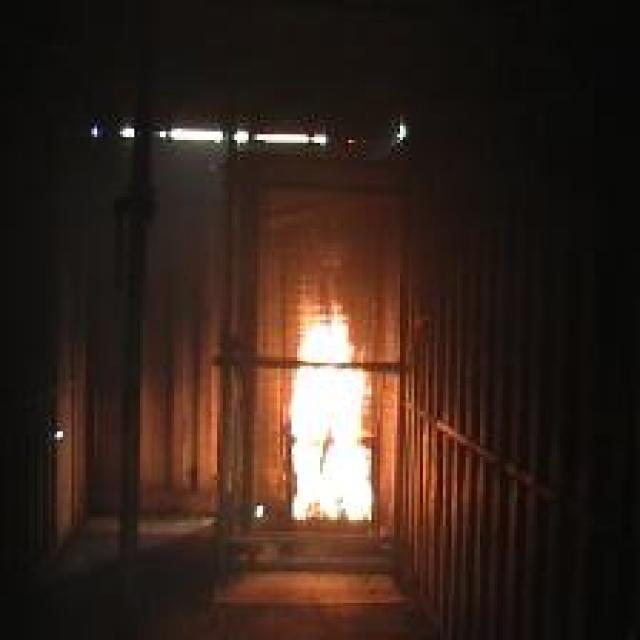Fire: (290, 286, 373, 523)
